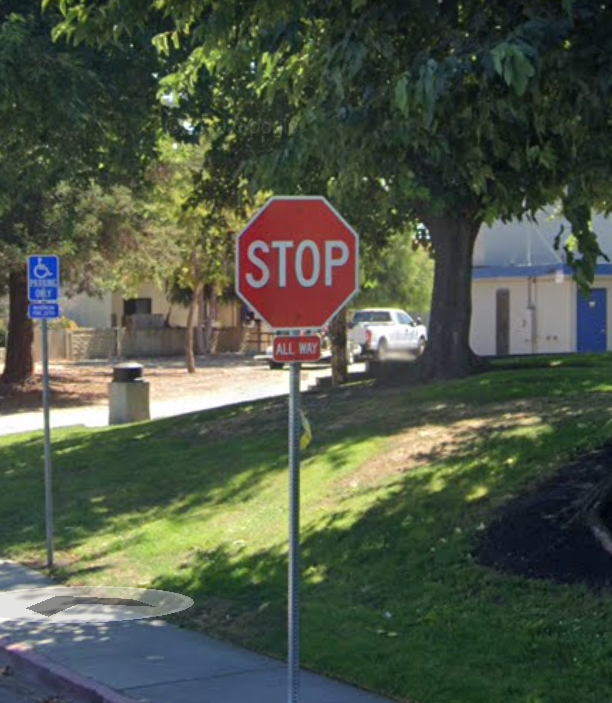stop_sign: (233, 197, 361, 330)
